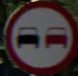No overtake: (4, 8, 72, 59)
